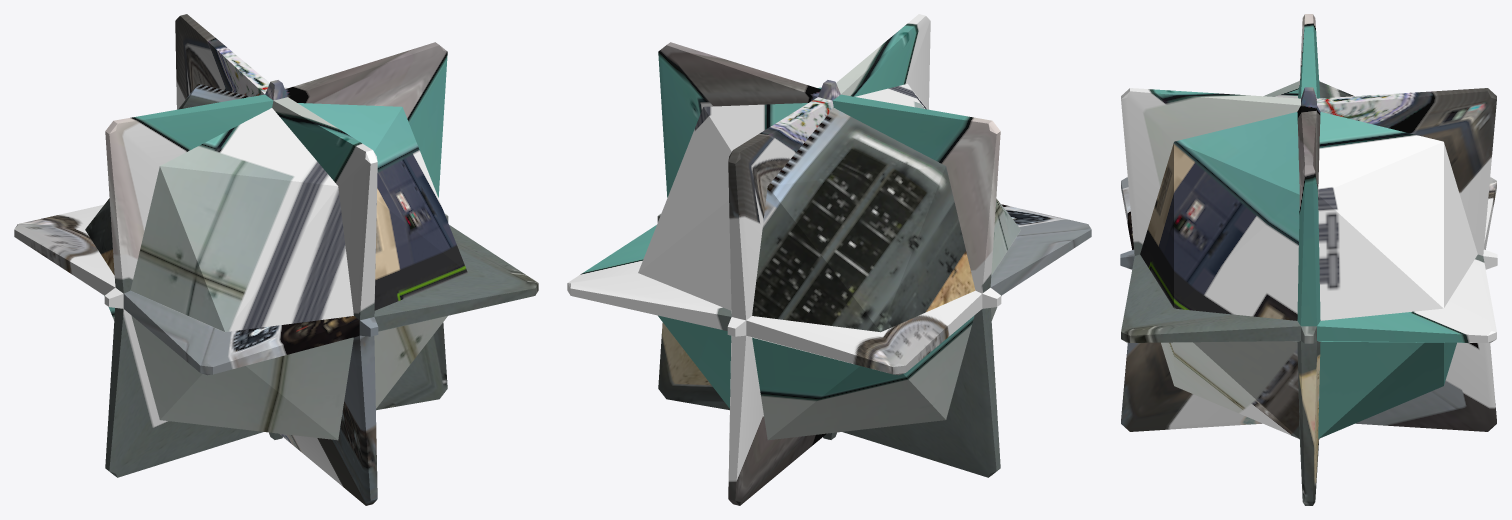
Rendered from throwable1.fbx.
The picture shows the model from 3 angles, left to right: view 1: azimuth 30°, elevation 25°; view 2: azimuth 150°, elevation 25°; view 3: azimuth 270°, elevation 25°; orthographic projection. The views are drawn at different scales.
Visible parts, largest first — view 1: Cube; view 2: Cube; view 3: Cube.
Boxes of the visible parts, bbox=[...] form: Cube: bbox=[14, 14, 538, 505]; Cube: bbox=[567, 14, 1091, 505]; Cube: bbox=[1120, 14, 1497, 505].
Bounding box in the file's own units: 280 × 280 × 280.
Materials: 1 (1 with a texture image).
